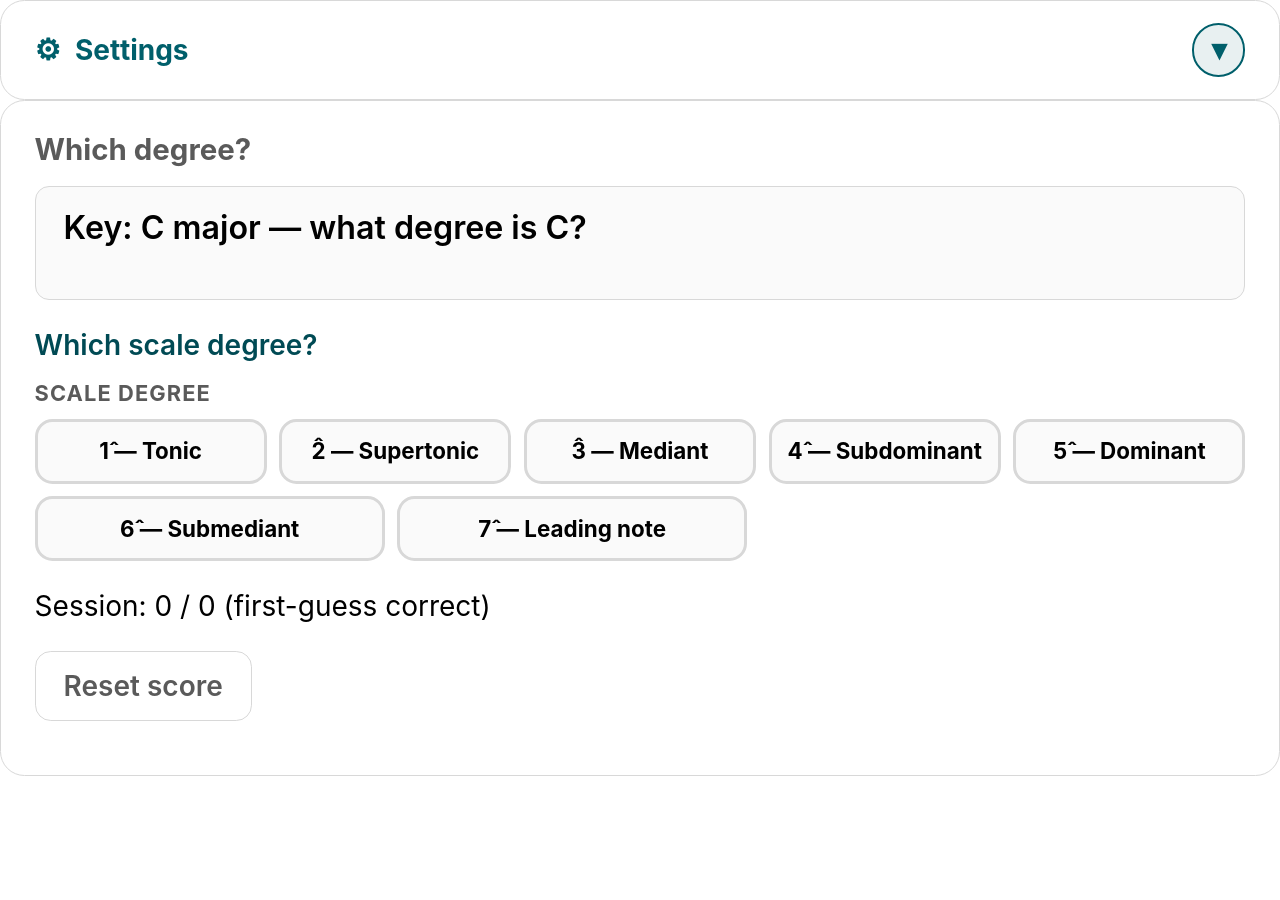
Test: ScaleDegreesTopic — first-guess scoring (docs/15-theory-topics/03 §5) › counts a wrong-then-right answer as total+1, correct+0 (only first guess scores)
Expected: the text "Key: C major — what degree is C?" is shown, [64,208,587,247]
Click the button "2̂ — Supertonic".
click(395, 451)  # box [279,419,511,484]
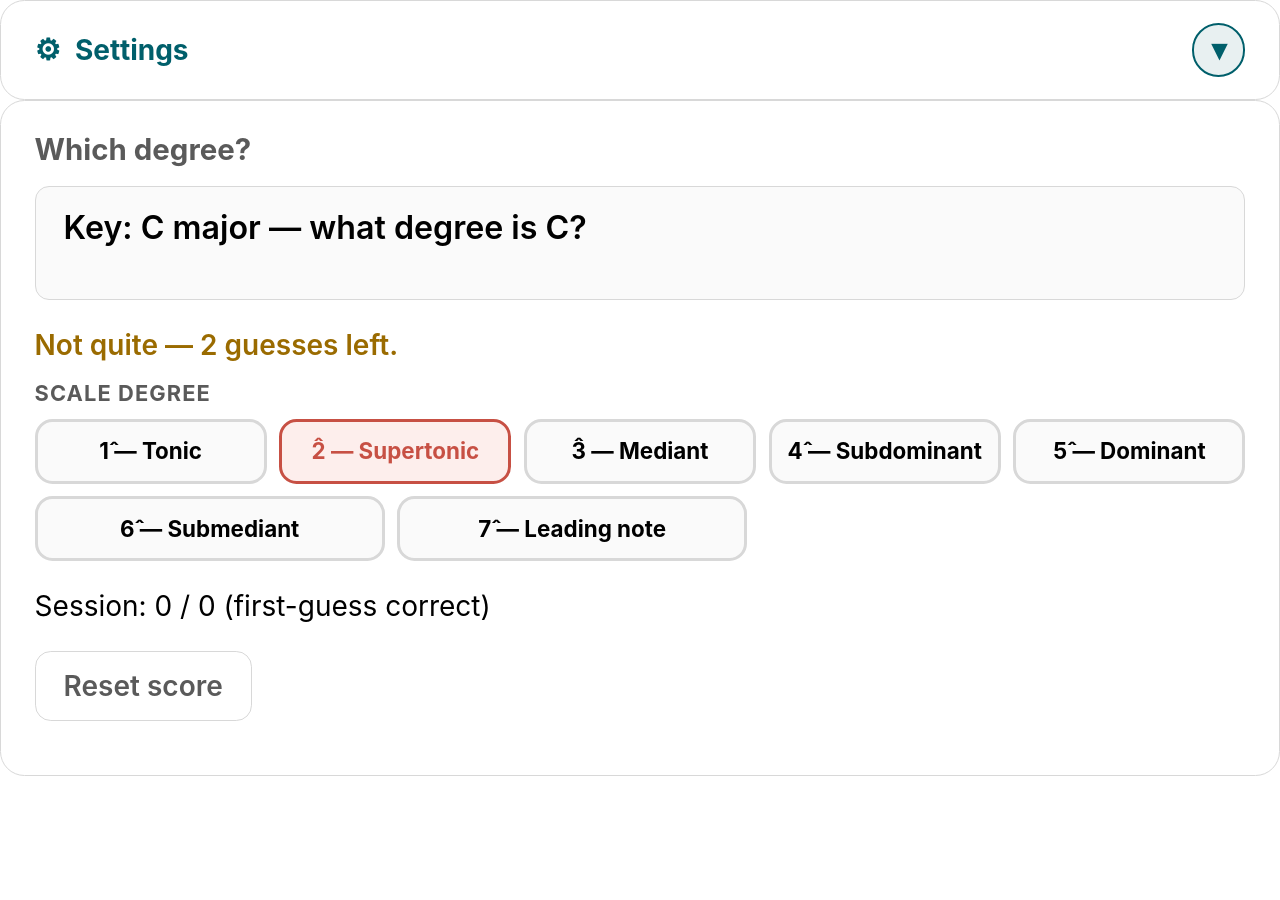
Click the button "1̂ — Tonic".
click(151, 451)  # box [35,419,267,484]
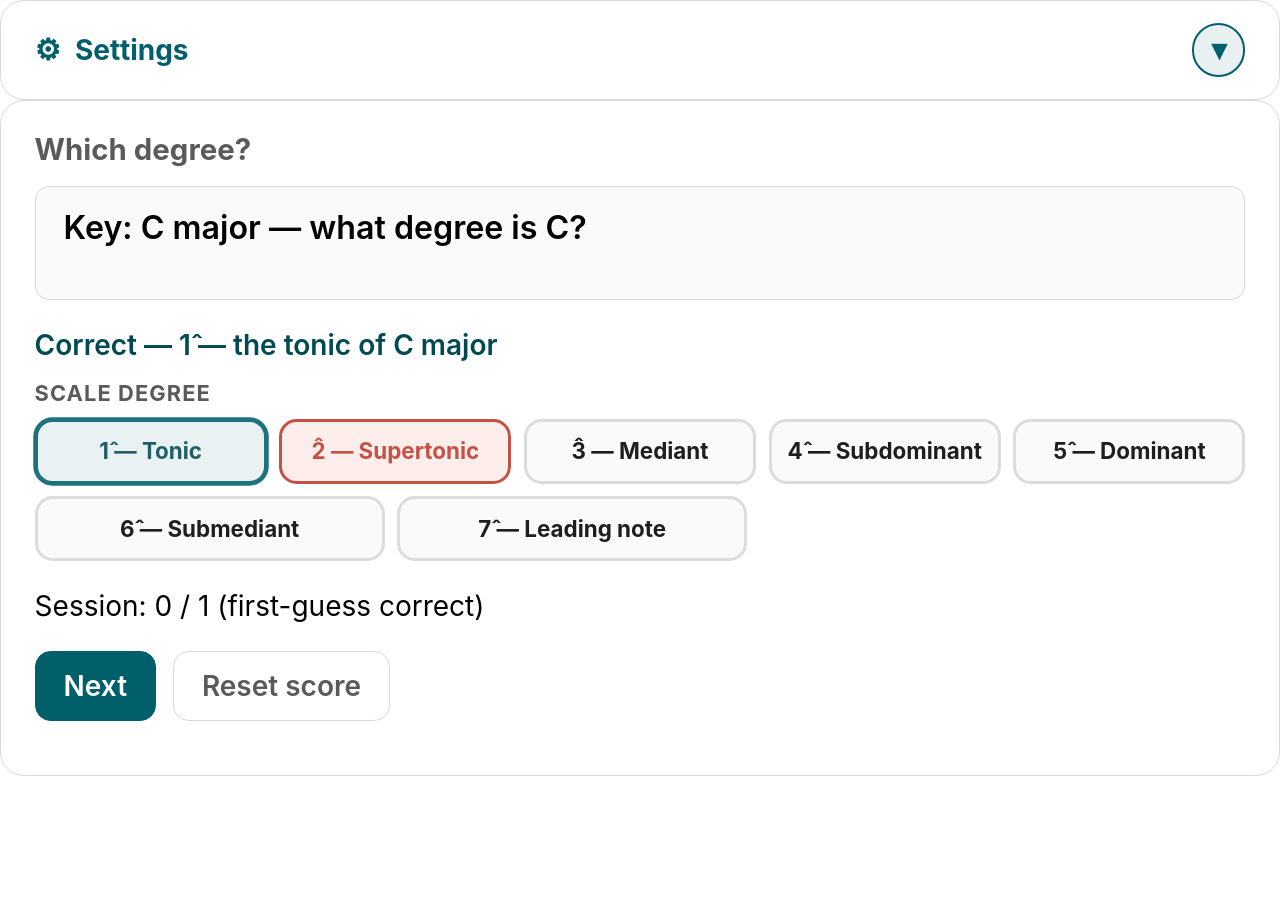
Expected: the text "Session: 0 / 1 (first-guess correct)" is shown, [35,589,484,623]
